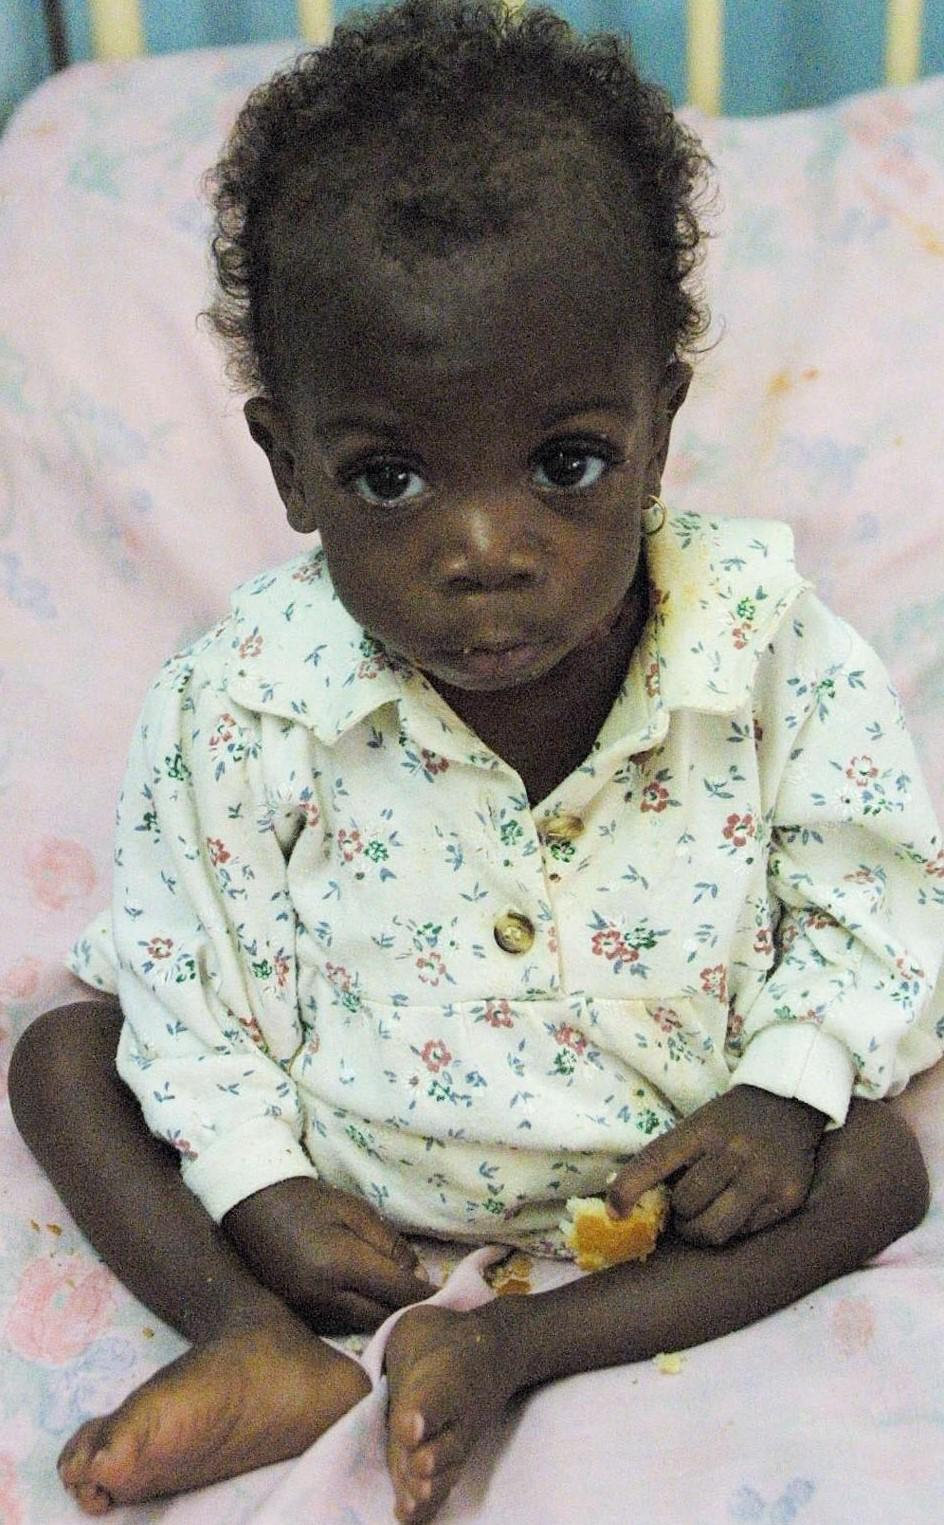Stunting: (210, 123, 707, 673)
